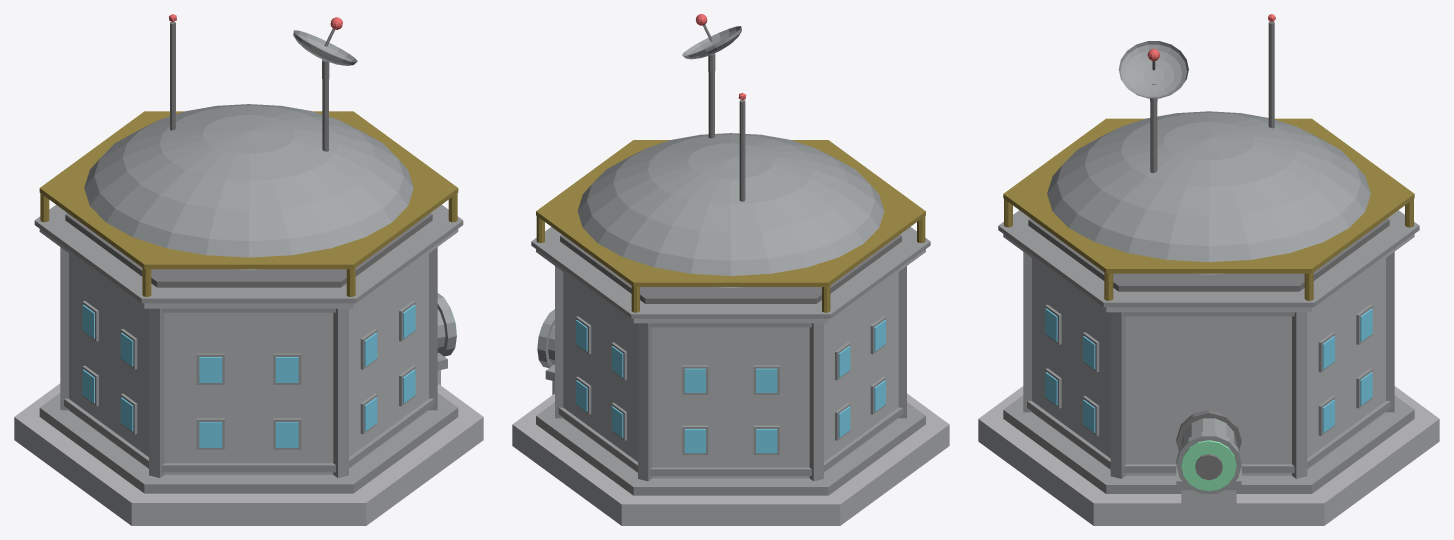
Rendered from analysis_center_s2_100.glb.
The picture shows the model from 3 angles, left to right: view 1: azimuth 30°, elevation 25°; view 2: azimuth 150°, elevation 25°; view 3: azimuth 270°, elevation 25°; orthographic projection. The views are drawn at different scales.
Visible parts, largest first — view 1: AC_Walls, AC_Dome, AC_Base, AC_Gallery_Rail, AC_BaseCap, AC_Gallery_Trim, AC_Dome_Base_Trim, AC_Band_Low, AC_Beam_3, AC_Beam_4, AC_Gallery_Base, AC_Beam_2 (+9 smaller); view 2: AC_Walls, AC_Dome, AC_Base, AC_Gallery_Rail, AC_BaseCap, AC_Gallery_Trim, AC_Dome_Base_Trim, AC_Band_Low, AC_Beam_1, AC_Beam_2, AC_Gallery_Base, AC_Beam_0 (+9 smaller); view 3: AC_Walls, AC_Dome, AC_Base, AC_Gallery_Rail, AC_Gallery_Trim, AC_BaseCap, AC_Dome_Base_Trim, AC_Dish, AC_Band_Low, AC_Beam_0, AC_Beam_5, AC_Gallery_Base (+11 smaller).
Part boxes in pixels (bbox=[...]): AC_Walls: bbox=[69, 253, 428, 474]; AC_Dome: bbox=[84, 104, 413, 270]; AC_Base: bbox=[14, 383, 483, 525]; AC_Gallery_Rail: bbox=[39, 111, 458, 269]; AC_BaseCap: bbox=[39, 393, 458, 493]; AC_Gallery_Trim: bbox=[34, 205, 463, 303]; AC_Dome_Base_Trim: bbox=[65, 213, 432, 287]; AC_Band_Low: bbox=[64, 398, 433, 472]; AC_Beam_3: bbox=[149, 308, 164, 477]; AC_Beam_4: bbox=[333, 308, 348, 477]; AC_Gallery_Base: bbox=[39, 229, 458, 308]; AC_Beam_2: bbox=[60, 247, 68, 410]; AC_Walls: bbox=[563, 272, 898, 478]; AC_Dome: bbox=[577, 133, 884, 287]; AC_Base: bbox=[512, 393, 949, 525]; AC_Gallery_Rail: bbox=[536, 140, 925, 286]; AC_BaseCap: bbox=[536, 402, 925, 495]; AC_Gallery_Trim: bbox=[531, 227, 930, 318]; AC_Dome_Base_Trim: bbox=[560, 235, 901, 303]; AC_Band_Low: bbox=[558, 407, 903, 475]; AC_Beam_1: bbox=[638, 323, 652, 481]; AC_Beam_2: bbox=[809, 323, 823, 481]; AC_Gallery_Base: bbox=[536, 249, 925, 323]; AC_Beam_0: bbox=[555, 266, 563, 418]; AC_Walls: bbox=[1032, 258, 1385, 475]; AC_Dome: bbox=[1047, 111, 1370, 274]; AC_Base: bbox=[978, 386, 1439, 525]; AC_Gallery_Rail: bbox=[1003, 118, 1414, 273]; AC_Gallery_Trim: bbox=[998, 210, 1419, 307]; AC_BaseCap: bbox=[1003, 395, 1414, 493]; AC_Dome_Base_Trim: bbox=[1028, 218, 1389, 291]; AC_Dish: bbox=[1118, 41, 1188, 98]; AC_Band_Low: bbox=[1027, 401, 1390, 472]; AC_Beam_0: bbox=[1292, 312, 1307, 478]; AC_Beam_5: bbox=[1110, 312, 1125, 478]; AC_Gallery_Base: bbox=[1003, 234, 1414, 312].
Size of the model in its own units: 1.69 by 1.85 by 1.84.
